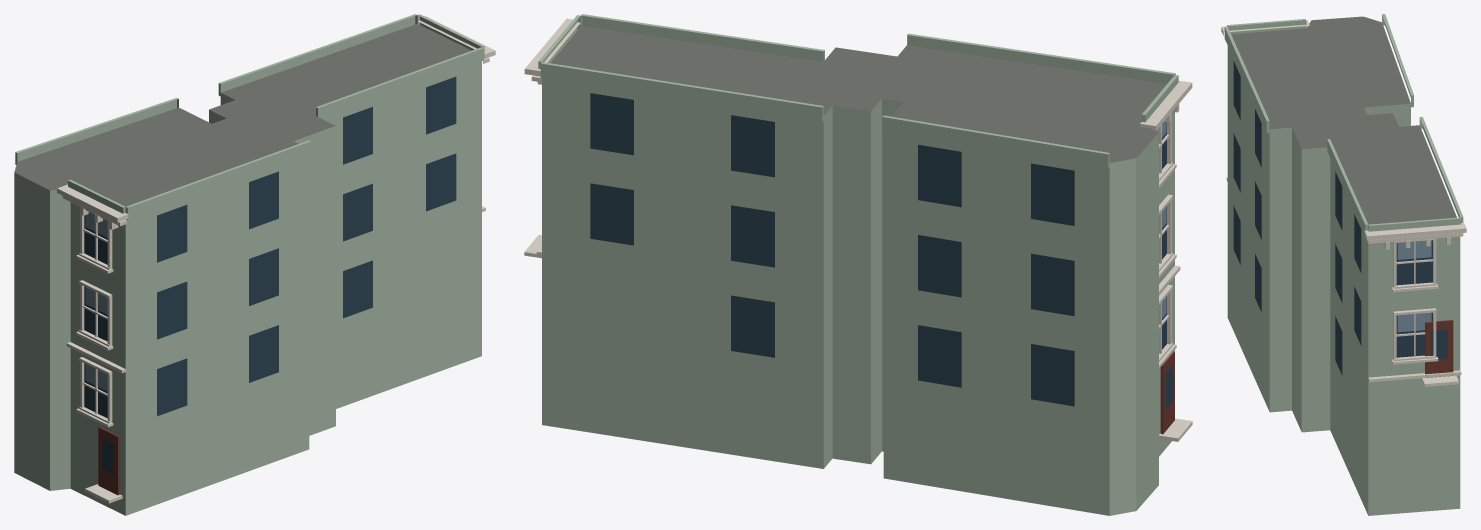
The picture shows the model from 3 angles, left to right: view 1: azimuth 30°, elevation 25°; view 2: azimuth 150°, elevation 25°; view 3: azimuth 270°, elevation 25°; orthographic projection. The views are drawn at different scales.
Visible parts, largest first — view 1: Footprint 0 / surface 2, Footprint 0 / surface 1, Inset glazing, Facade bay volumes, Cornices and window frames, Sky reflection panels, Storefronts and doors; view 2: Footprint 0 / surface 2, Footprint 0 / surface 1, Inset glazing, Facade bay volumes, Cornices and window frames, Storefronts and doors; view 3: Footprint 0 / surface 2, Footprint 0 / surface 1, Inset glazing, Cornices and window frames, Facade bay volumes, Sky reflection panels, Storefronts and doors.
Boxes of the visible parts, x1,y1,x2,y2 form: Footprint 0 / surface 2: (14,61,481,515); Footprint 0 / surface 1: (14,24,471,206); Inset glazing: (84,76,456,474); Facade bay volumes: (15,14,484,219); Cornices and window frames: (57,16,495,503); Sky reflection panels: (85,212,107,391); Storefronts and doors: (98,427,119,495); Footprint 0 / surface 2: (542,78,1174,515); Footprint 0 / surface 1: (550,26,1166,162); Inset glazing: (590,93,1172,408); Facade bay volumes: (538,14,1178,168); Cornices and window frames: (524,18,1192,441); Storefronts and doors: (1160,351,1174,434); Footprint 0 / surface 2: (1227,46,1460,515); Footprint 0 / surface 1: (1231,16,1456,224); Inset glazing: (1233,61,1447,375); Cornices and window frames: (1221,20,1466,386); Facade bay volumes: (1224,14,1463,234); Sky reflection panels: (1397,240,1431,332); Storefronts and doors: (1425,320,1453,377).
Size of the model in its own units: 20.34 by 12.44 by 9.49.
